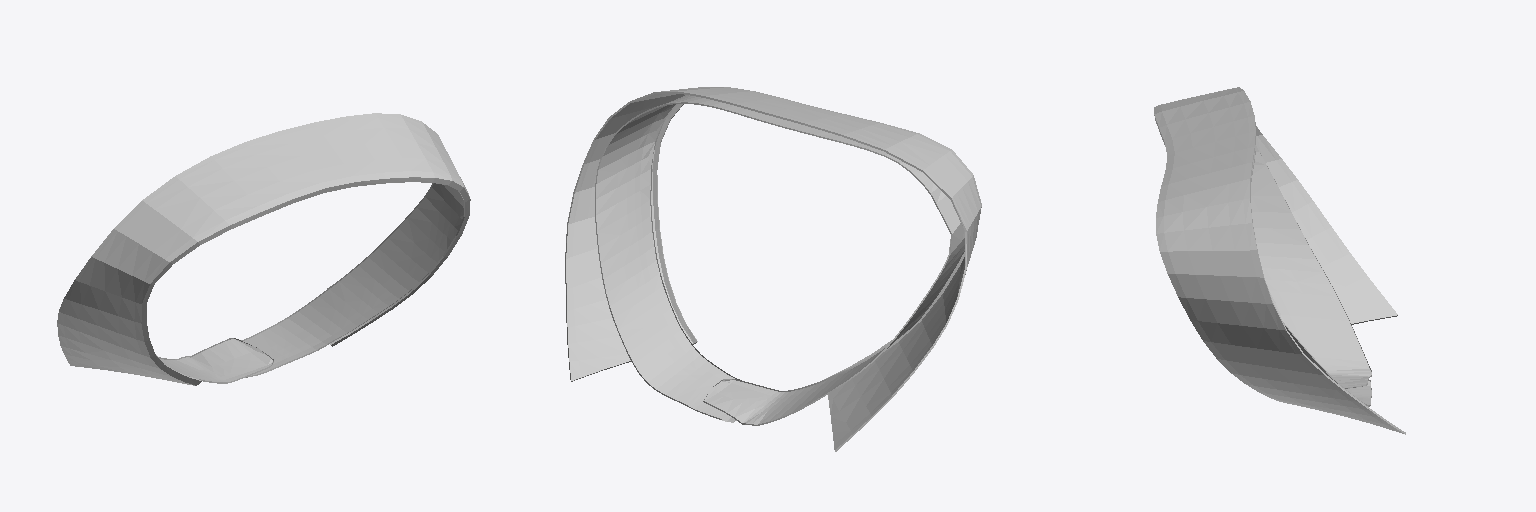
The model's file is mitre_button_down_bagian_1_(out).obj.
The picture shows the model from 3 angles: view 1: azimuth 30°, elevation 25°; view 2: azimuth 150°, elevation 25°; view 3: azimuth 270°, elevation 25°; orthographic projection.
Visible parts, largest first — view 1: 19__mitre_button_down, inner_collar_out; view 2: 19__mitre_button_down, inner_collar_out; view 3: 19__mitre_button_down, inner_collar_out.
Boxes of the visible parts, box(x1,y1,x2,y2) form: 19__mitre_button_down: box(57, 113, 470, 385); inner_collar_out: box(159, 183, 463, 383); 19__mitre_button_down: box(565, 87, 981, 451); inner_collar_out: box(595, 95, 964, 425); 19__mitre_button_down: box(1154, 87, 1405, 434); inner_collar_out: box(1251, 145, 1371, 406).
Bounding box in the file's own units: 18 × 11.83 × 10.28.